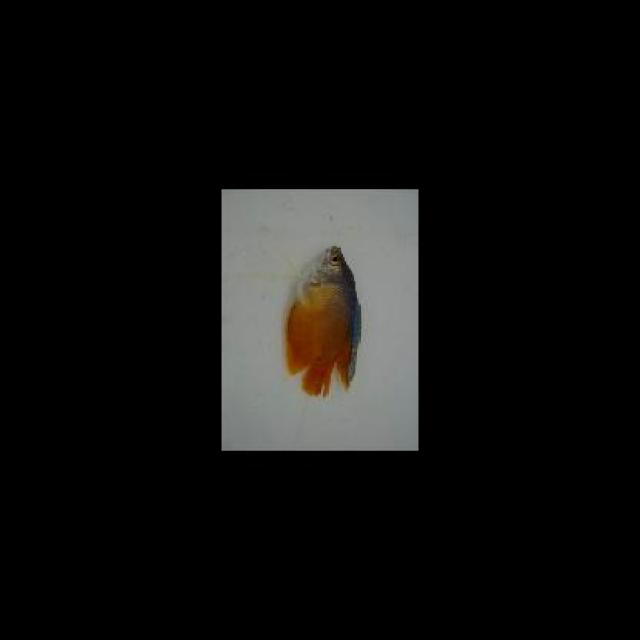Gourami: (284, 238, 362, 399)
